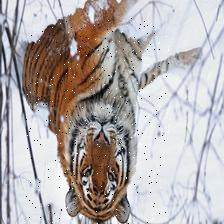tiger: (26, 17, 169, 223)
